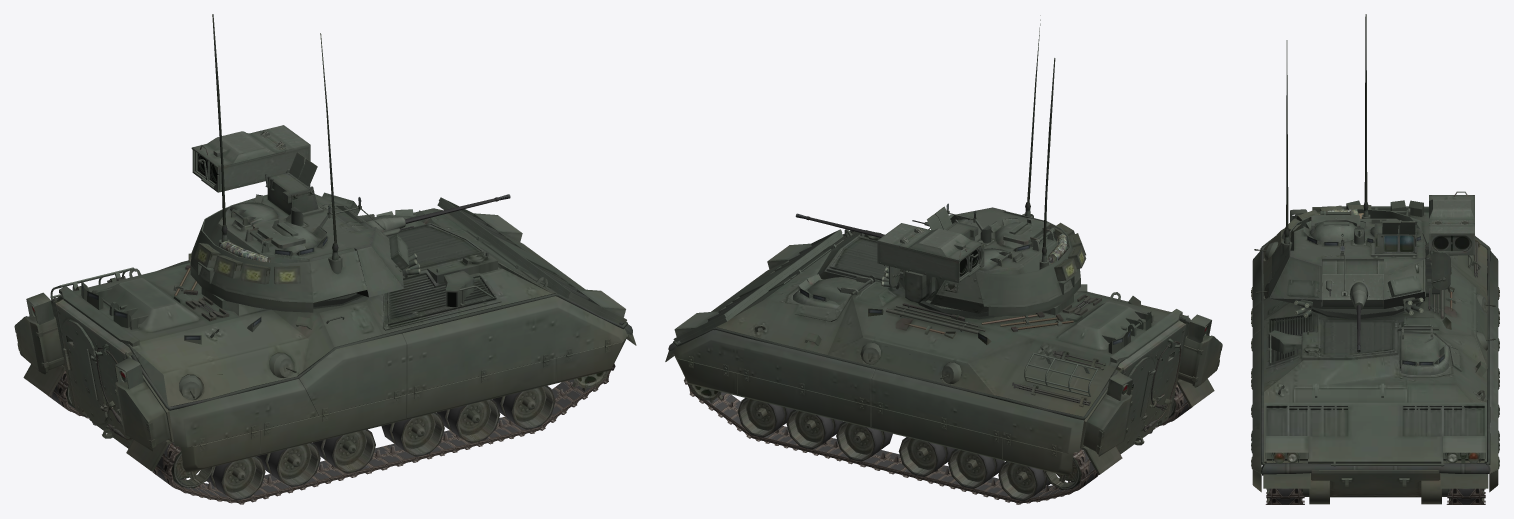
Rendered from m2_bradley.glb.
The picture shows the model from 3 angles, left to right: view 1: azimuth 30°, elevation 25°; view 2: azimuth 150°, elevation 25°; view 3: azimuth 270°, elevation 25°; orthographic projection. The views are drawn at different scales.
Parts seen in each view (by area): view 1: hull, sideplate8, hullb, turret, rearstowagebin, track03, sideplate7, sideplate6.001, mount2, bowplate, sideplate9, sideplate6 (+26 smaller); view 2: hull, hullb, sideplate, sideplate3, turret, track2, mount2, rearstowagebin, bowplate, hatch4, sideplate4, sideplate2 (+18 smaller); view 3: hull, bowplate, turret, mount, mount2, hatch3, rubberthing, mudguard, sideplate8, hatch, sideplate3, hullb (+17 smaller).
Boxes of the visible parts, box(x1,y1,x2,y2) form: hull: box(57, 208, 557, 410); sideplate8: box(402, 296, 627, 394); hullb: box(14, 281, 173, 471); turret: box(209, 14, 403, 308); rearstowagebin: box(190, 206, 366, 312); track03: box(152, 363, 615, 504); sideplate7: box(299, 333, 406, 415); sideplate6.001: box(169, 379, 318, 447); mount2: box(191, 125, 310, 192); bowplate: box(437, 197, 626, 323); sideplate9: box(403, 358, 556, 420); sideplate6: box(256, 394, 406, 456); hull: box(716, 229, 1190, 420); hullb: box(1012, 309, 1222, 474); sideplate: box(871, 369, 1083, 453); sideplate3: box(673, 330, 875, 405); turret: box(899, 58, 1057, 319); track2: box(684, 378, 1098, 504); mount2: box(877, 223, 984, 283); rearstowagebin: box(975, 211, 1080, 315); bowplate: box(673, 229, 843, 342); hatch4: box(1117, 320, 1185, 454); sideplate4: box(737, 373, 874, 429); sideplate2: box(871, 405, 1005, 460); hull: box(1263, 212, 1487, 504); bowplate: box(1264, 402, 1486, 466); turret: box(1268, 14, 1439, 319); mount: box(1322, 234, 1386, 309); mount2: box(1425, 191, 1474, 260); hatch3: box(1401, 327, 1449, 375); rubberthing: box(1261, 463, 1490, 475); mudguard: box(1263, 473, 1488, 488); sideplate8: box(1252, 330, 1261, 472); hatch: box(1310, 211, 1360, 243); sideplate3: box(1489, 347, 1498, 473); hullb: box(1260, 200, 1490, 277).
Bounding box in the file's own units: 6.6 × 5.59 × 3.34.
10 materials, 10 textured.
